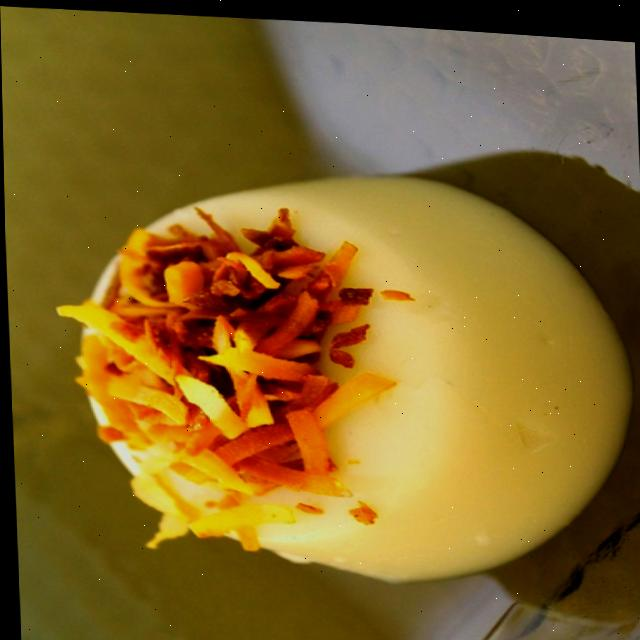蛋糕甜品: (72, 141, 639, 590)
